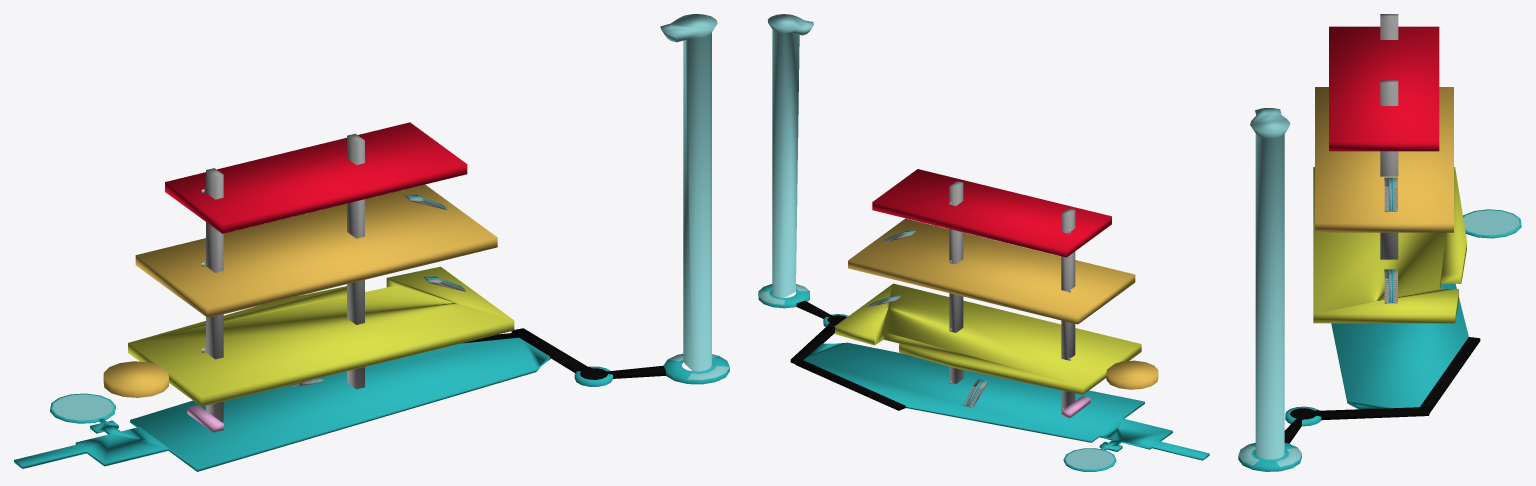
Rendered from sciOBJ.obj.
The picture shows the model from 3 angles, left to right: view 1: azimuth 30°, elevation 25°; view 2: azimuth 150°, elevation 25°; view 3: azimuth 270°, elevation 25°; orthographic projection. The views are drawn at different scales.
Visible parts, largest first — view 1: Box002, Box001, Box003, Box004, Cone002, Box007, Box011, Cone001, Cone004, Box013; view 2: Box001, Box002, Box003, Box004, Cone002, Box007, Box011, Cone001, Cone004, Box013; view 3: Box004, Box002, Box003, Cone002, Box001, Box011, Cone004, Box013, Cone003, Box007, Box015, Box016.
Part boxes in pixels (x1,y1,x2,y2): Box002: (128,266,514,406); Box001: (14,333,550,471); Box003: (135,184,497,317); Box004: (165,122,467,233); Cone002: (660,14,729,384); Box007: (206,168,223,421); Box011: (347,133,364,389); Cone001: (103,361,168,397); Cone004: (50,393,115,423); Box013: (511,328,587,373); Box001: (795,342,1209,460); Box002: (835,283,1141,394); Box003: (848,218,1135,324); Box004: (872,169,1111,257); Cone002: (758,14,813,308); Box007: (1061,208,1075,409); Box011: (949,181,963,383); Cone001: (1106,360,1158,389); Cone004: (1063,448,1116,471); Box013: (790,325,834,365); Box004: (1329,26,1439,151); Box002: (1313,167,1466,323); Box003: (1315,87,1453,232); Cone002: (1238,108,1301,471); Box001: (1331,283,1480,412); Box011: (1380,80,1398,259); Cone004: (1463,209,1521,238); Box013: (1320,407,1430,420); Cone003: (1285,406,1321,426); Box007: (1380,14,1398,39); Box015: (1384,269,1397,303); Box016: (1384,177,1397,211).
Bounding box in the file's own units: 470 × 248 × 189.
